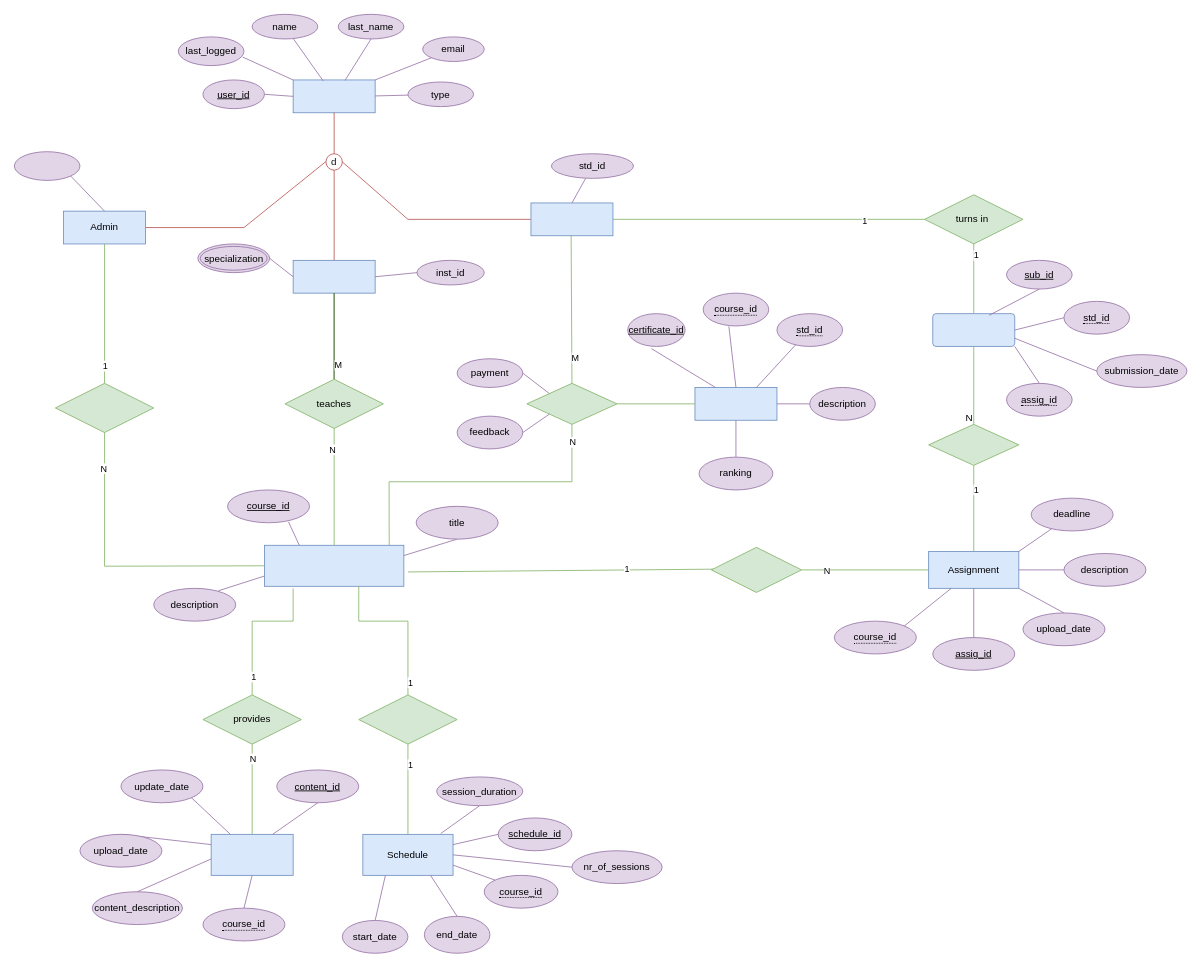
Some shapes in this 1201 by 968 pixel diagram are drawn without their labels. The shapes that lost their labels are listed below. From the top down, each one's box as (x1, y1, x2, y2) in pixels, then its label:
(292, 79, 375, 113): User
(14, 151, 80, 180): admin_id
(530, 202, 613, 236): Student
(292, 260, 375, 293): Instructor
(932, 313, 1015, 346): Submission
(55, 383, 154, 433): administrates
(526, 383, 617, 424): enrolls
(694, 387, 777, 420): Certification
(928, 424, 1019, 465): includes
(264, 544, 404, 586): Course
(711, 547, 802, 592): contains
(358, 694, 457, 744): consists of
(210, 834, 293, 875): Content
